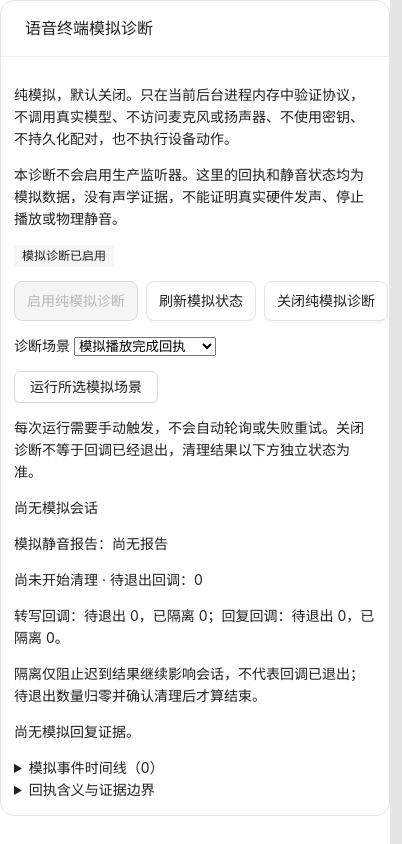
memory-only terminal diagnostics › posts only the selected playback-complete synthetic scenario
The image size is (402, 844).
Expected: the text "模拟诊断已启用" is shown, [14,245,114,267]
Select "模拟播放完成回执" in the dropdown named "终端模拟诊断场景" at {"x": 145, "y": 346}, box [74,337,216,356]
Click the button "运行所选模拟场景".
click(86, 387)  # box [14,371,158,403]
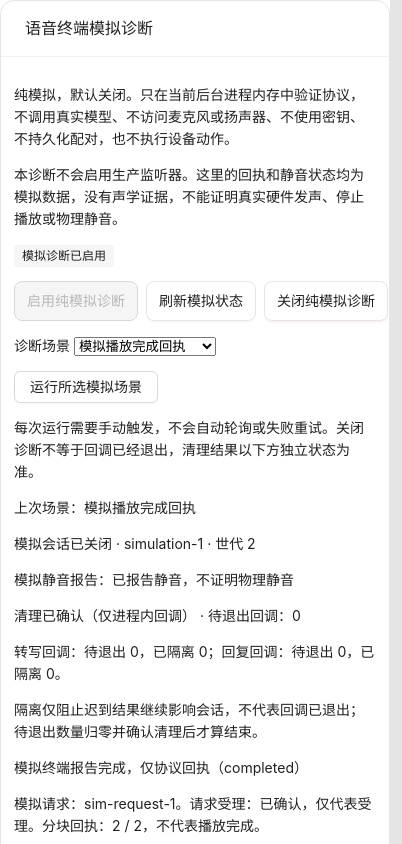
Now the text named "模拟回复状态" shows "仅协议回执", box [14,759,210,776]
Now the text "模拟静音报告：已报告静音，不证明物理静音" is shown, box [14,571,294,588]
